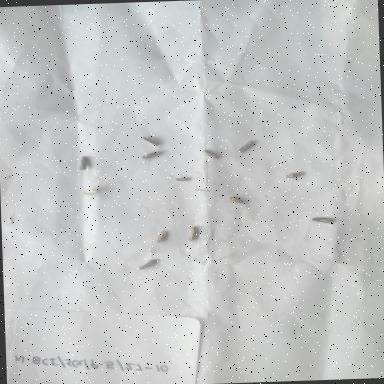pbw: (139, 150, 166, 166), (138, 133, 162, 150), (135, 258, 159, 272), (236, 139, 256, 154), (75, 154, 91, 172), (200, 148, 220, 162), (154, 228, 170, 244), (227, 195, 249, 206), (283, 170, 305, 181), (306, 216, 334, 224), (185, 225, 198, 242), (80, 186, 100, 196), (171, 174, 192, 183)
